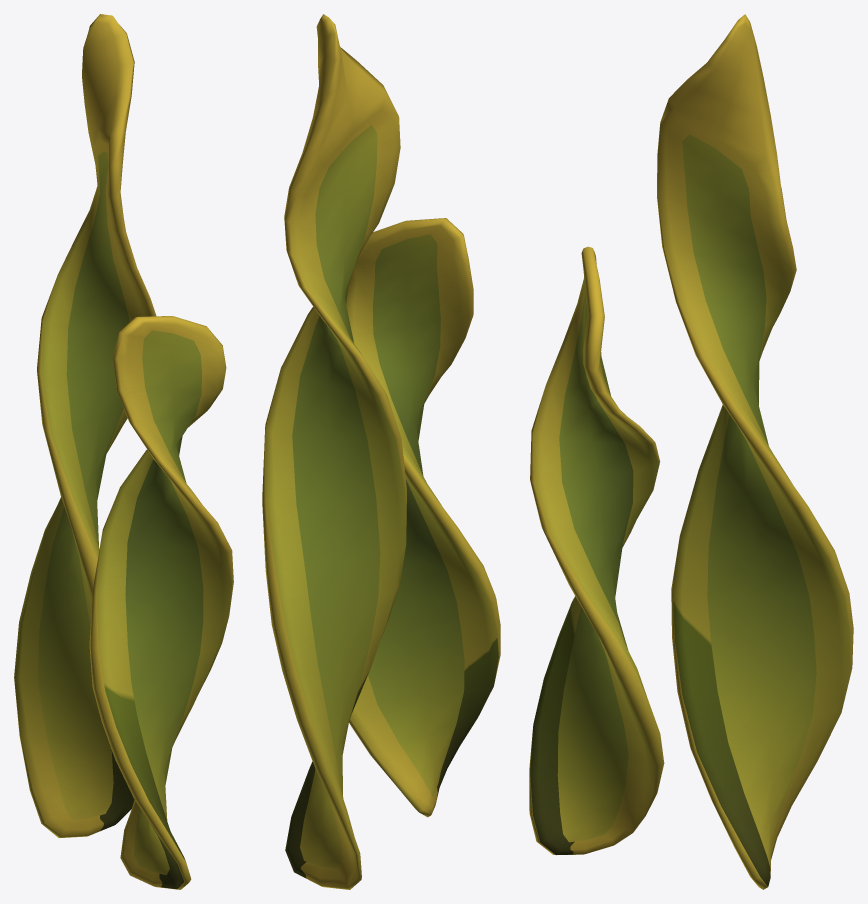
File: kelp2.fbx
The picture shows the model from 3 angles, left to right: view 1: azimuth 30°, elevation 25°; view 2: azimuth 150°, elevation 25°; view 3: azimuth 270°, elevation 25°; orthographic projection. The views are drawn at different scales.
Visible parts, largest first — view 1: pCube4, pCube3; view 2: pCube4, pCube3; view 3: pCube4, pCube3.
Boxes of the visible parts, x1,y1,x2,y2 form: pCube4: [14, 14, 156, 837]; pCube3: [89, 316, 233, 889]; pCube4: [262, 14, 406, 889]; pCube3: [346, 218, 500, 817]; pCube4: [657, 14, 853, 889]; pCube3: [529, 246, 664, 855].
Size of the model in its own units: 0.9531 by 5.22 by 1.76.
